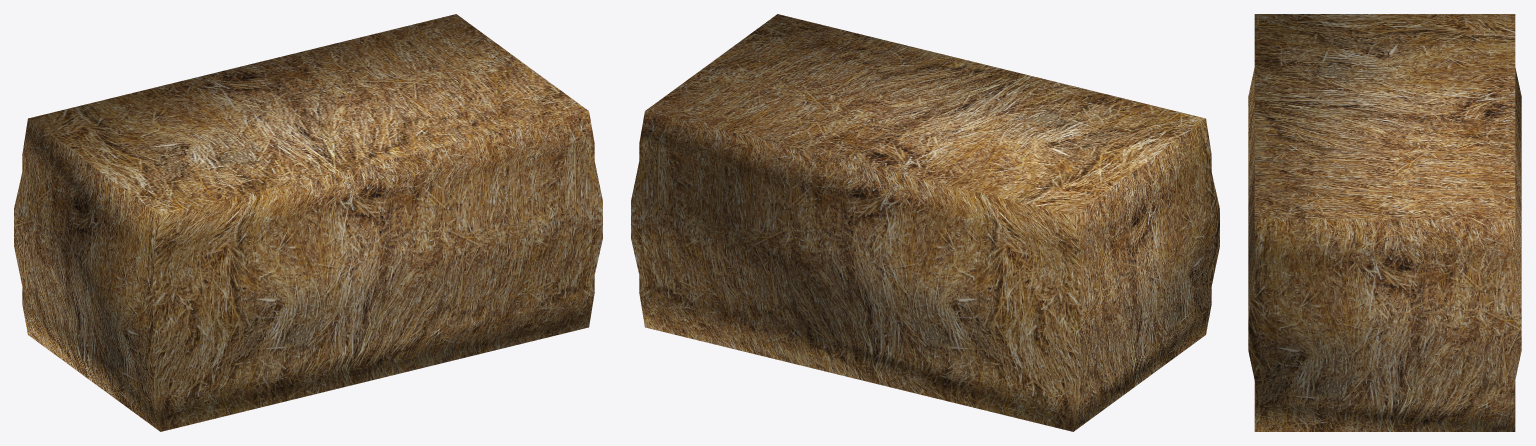
Rendered from haybale.fbx.
The picture shows the model from 3 angles, left to right: view 1: azimuth 30°, elevation 25°; view 2: azimuth 150°, elevation 25°; view 3: azimuth 270°, elevation 25°; orthographic projection.
Visible parts, largest first — view 1: hay bale; view 2: hay bale; view 3: hay bale.
Boxes of the visible parts, x1=… form: hay bale: x1=14, y1=14, x2=602, y2=431; hay bale: x1=631, y1=14, x2=1219, y2=431; hay bale: x1=1248, y1=14, x2=1521, y2=431.
Size of the model in its own units: 117 by 53.86 by 62.84.
